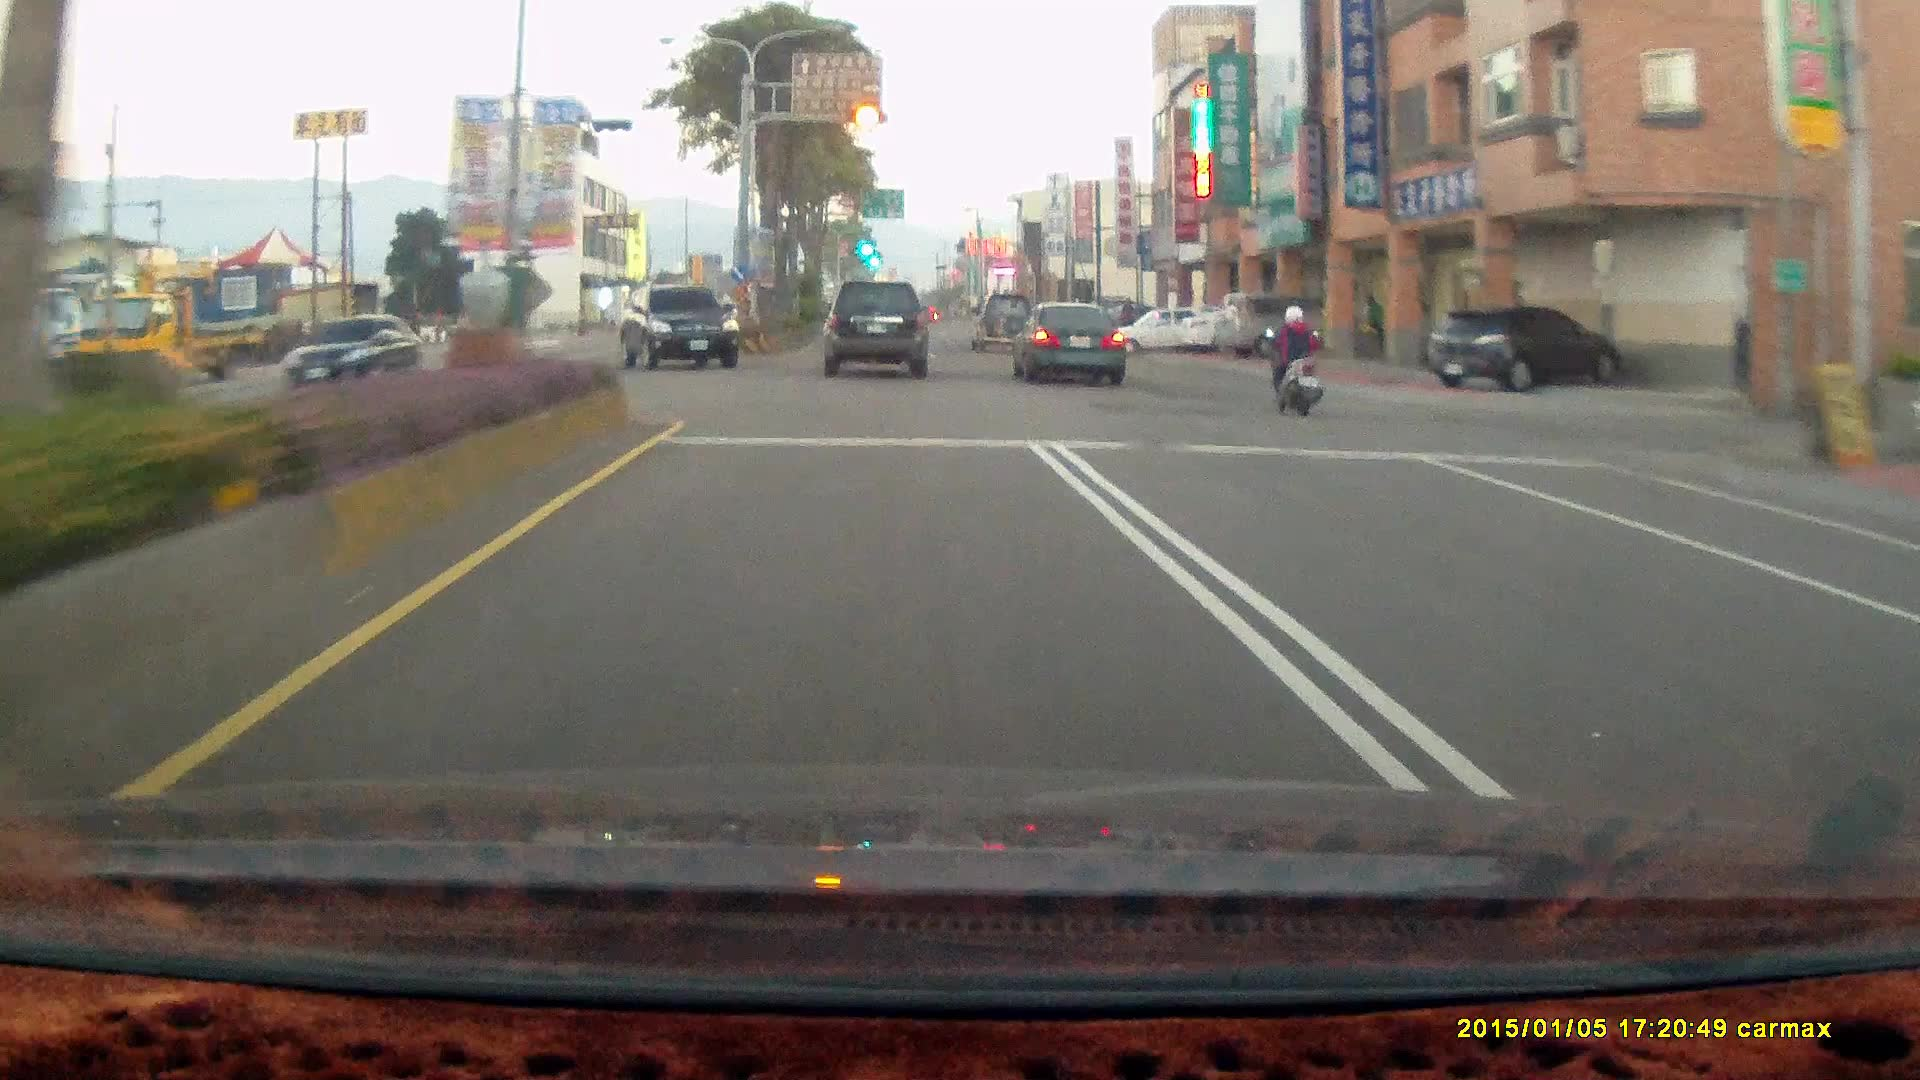pedestrian: (1360, 293, 1385, 360)
rider: (1254, 293, 1337, 426), (1268, 300, 1328, 412)
vehicle: (70, 283, 270, 396), (1426, 301, 1624, 390), (1431, 304, 1633, 390), (273, 311, 426, 394), (281, 309, 419, 391), (823, 281, 931, 378), (822, 279, 929, 377), (616, 283, 738, 366), (622, 284, 744, 365), (1008, 299, 1125, 384), (1010, 302, 1128, 383), (1213, 288, 1347, 357), (1211, 288, 1334, 360), (1118, 300, 1231, 357), (1110, 303, 1226, 353), (968, 289, 1036, 351)
